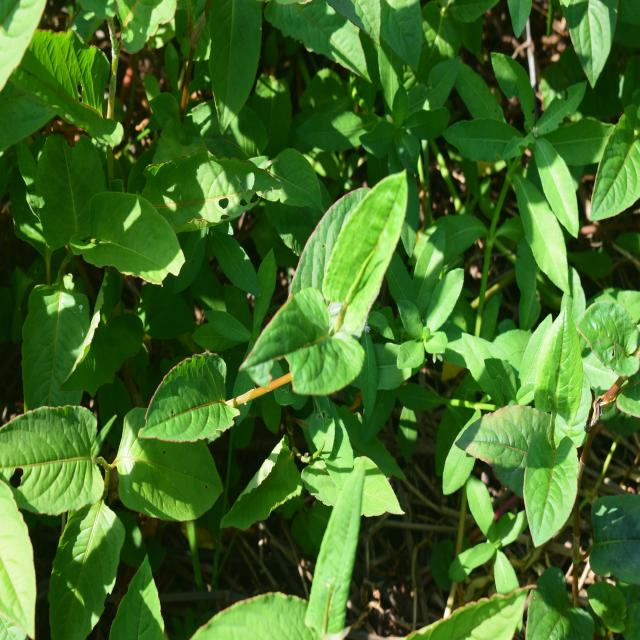Chinese_knotweed: (167, 172, 387, 469), (0, 342, 186, 640)
